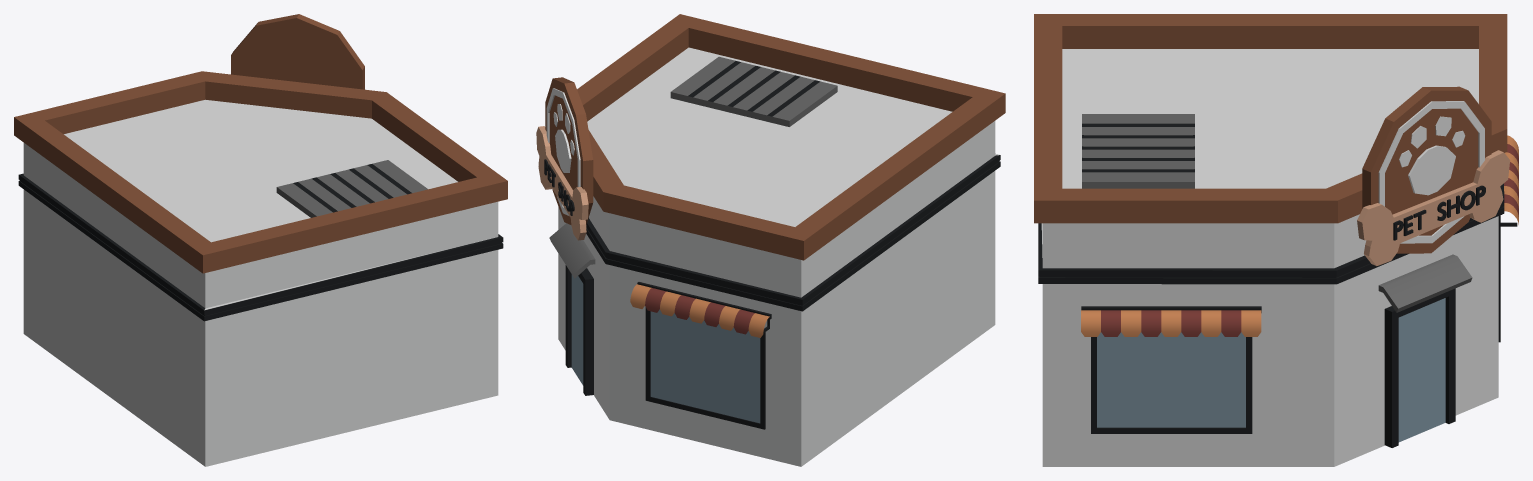
Rendered from pet.fbx.
3 views of the same model, side by side, from view 1: azimuth 30°, elevation 25°; view 2: azimuth 150°, elevation 25°; view 3: azimuth 270°, elevation 25° (orthographic). The views are drawn at different scales.
Visible parts, largest first — view 1: pet; view 2: pet; view 3: pet.
Boxes of the visible parts, <box> form: pet: <box>14,14,507,466</box>; pet: <box>536,14,1005,466</box>; pet: <box>1034,14,1518,466</box>.
Bounding box in the file's own units: 962 × 818 × 1030.
